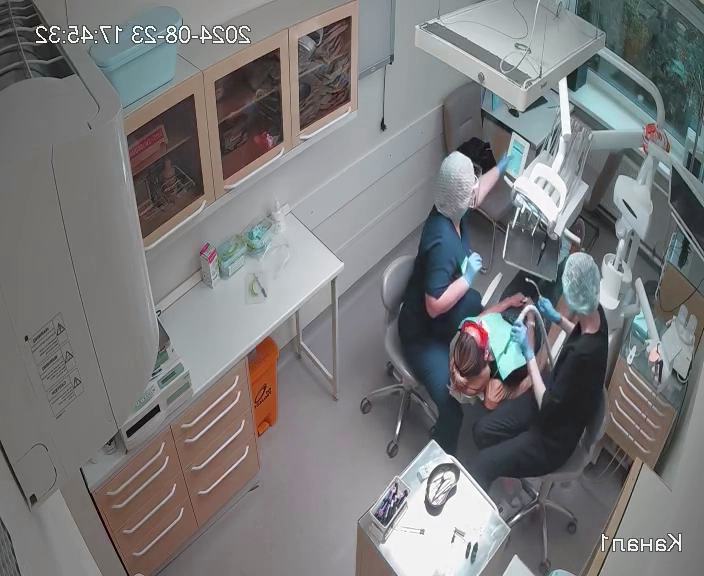Patient: (428, 216, 598, 406)
